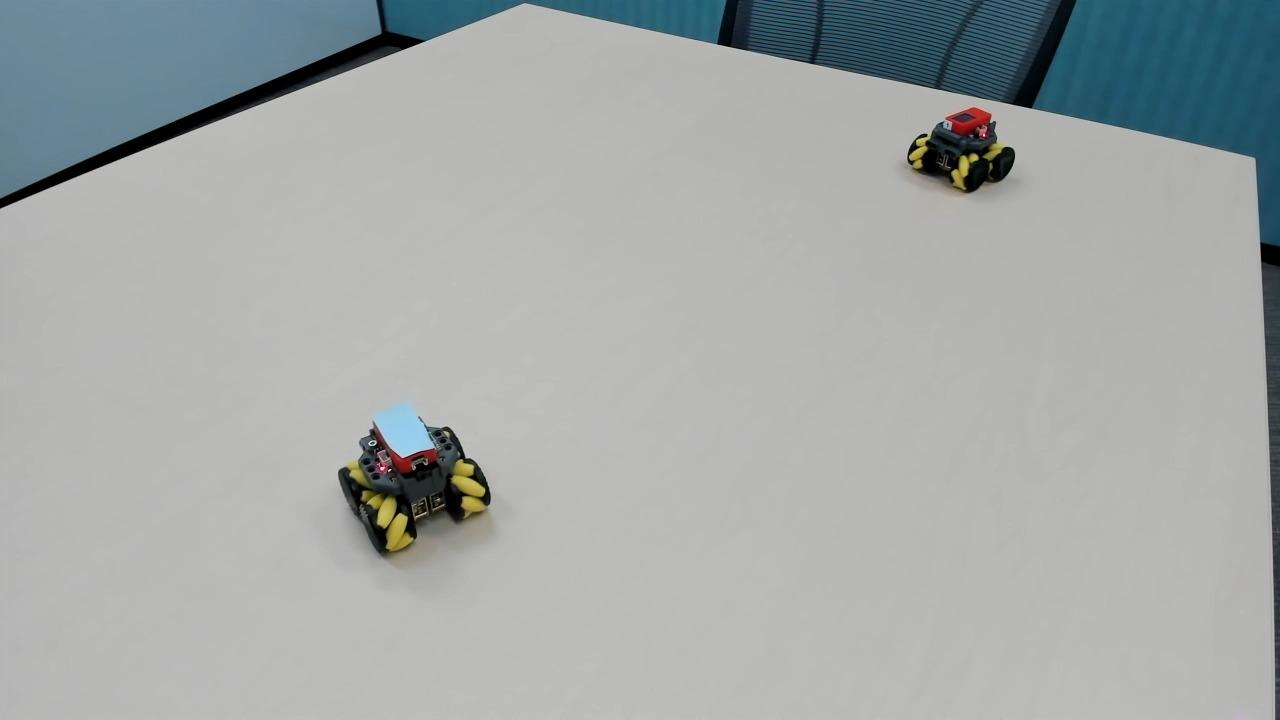B-Robot: (336, 392, 505, 568)
R-Robot: (901, 98, 1020, 209)
